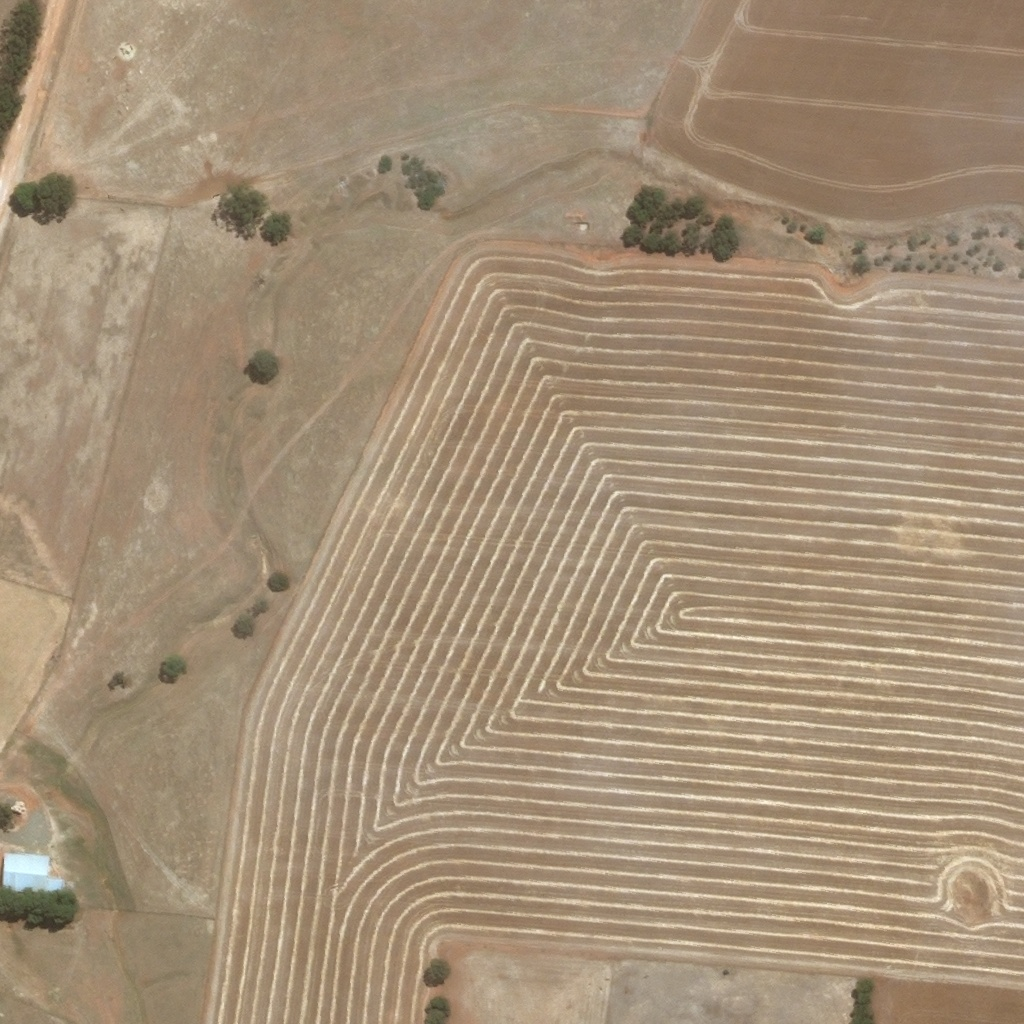0 no-damage: (3, 849, 63, 891)
